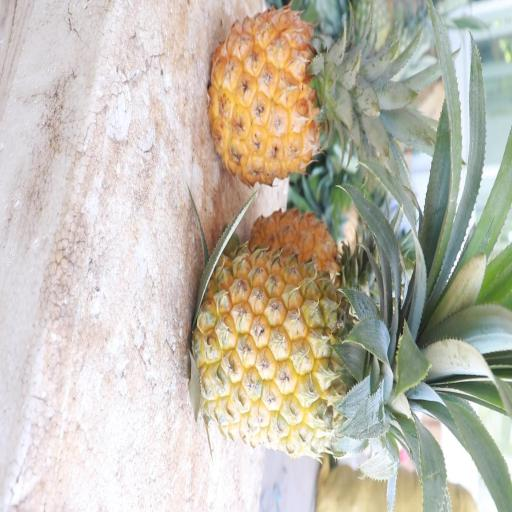Pineapple - v8 v1: (187, 244, 445, 466), (205, 6, 384, 196), (242, 208, 372, 320)
